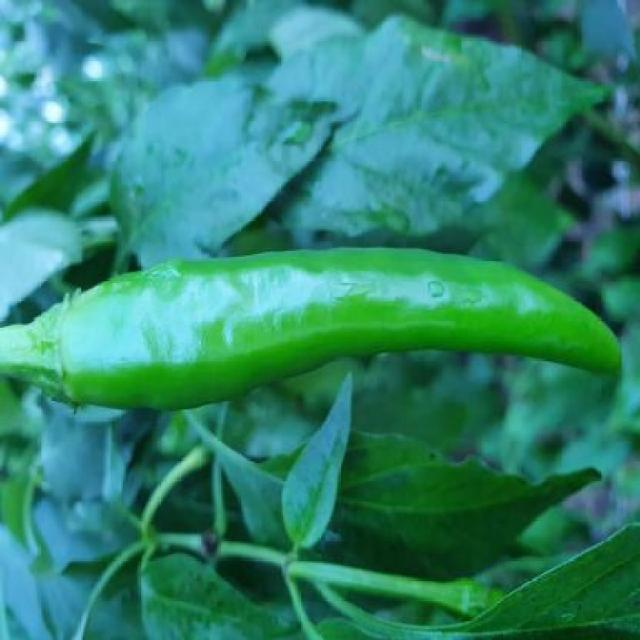green chilli: (2, 248, 623, 412)
